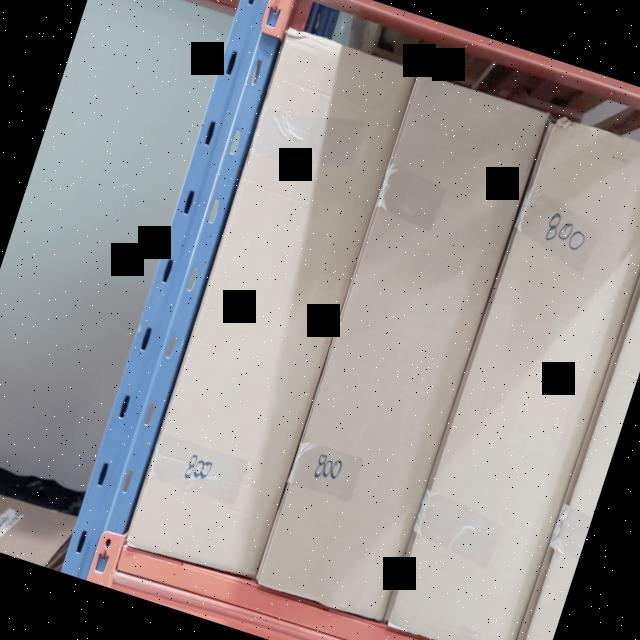box: (255, 73, 546, 620), (129, 33, 416, 579), (390, 125, 640, 640)
